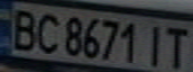1: (118, 18, 142, 64)
6: (78, 15, 103, 60)
7: (100, 17, 121, 62)
8: (60, 12, 84, 57)
B: (3, 6, 42, 52)
C: (30, 9, 63, 55)
I: (139, 20, 172, 68)
T: (160, 23, 193, 71)
